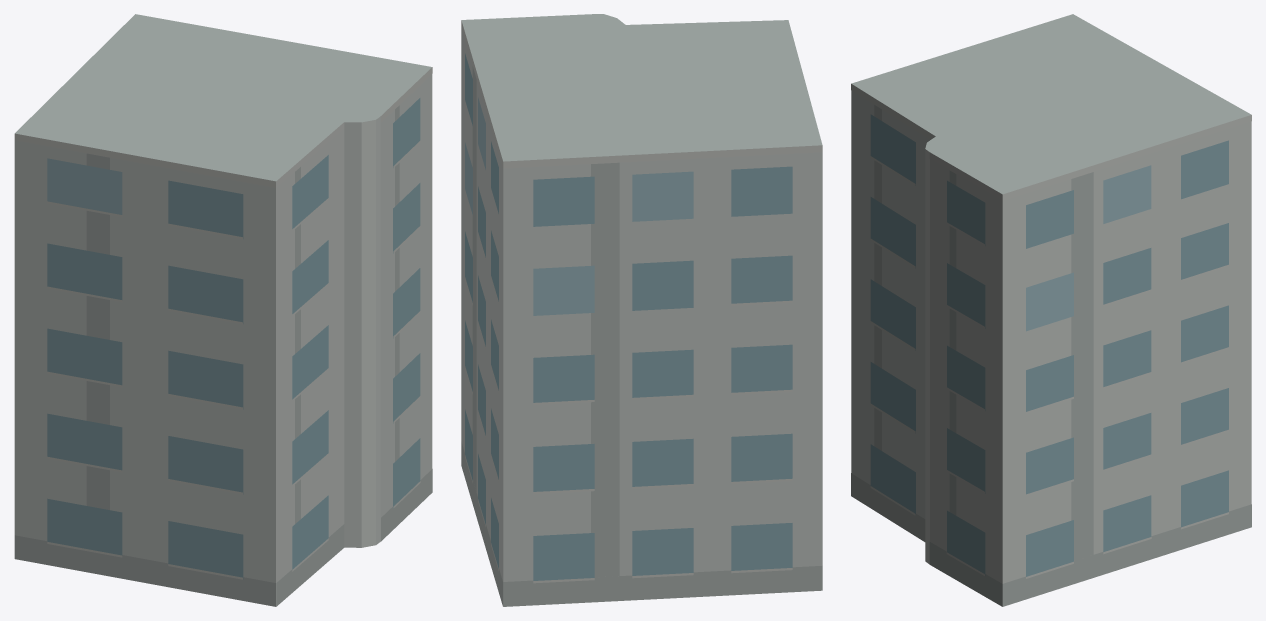
File: residential-70b1f701-2107-423a-ab26-b1509b469218.glb
The picture shows the model from 3 angles, left to right: view 1: azimuth 30°, elevation 25°; view 2: azimuth 150°, elevation 25°; view 3: azimuth 270°, elevation 25°; orthographic projection. The views are drawn at different scales.
Visible parts, largest first — view 1: residential-70b1f701-2107-423a-ab26-b1509b469218.tmp; view 2: residential-70b1f701-2107-423a-ab26-b1509b469218.tmp; view 3: residential-70b1f701-2107-423a-ab26-b1509b469218.tmp.
Part boxes in pixels (left/top/right/bottom): residential-70b1f701-2107-423a-ab26-b1509b469218.tmp: left=14, top=14, right=432, bottom=606; residential-70b1f701-2107-423a-ab26-b1509b469218.tmp: left=461, top=14, right=822, bottom=606; residential-70b1f701-2107-423a-ab26-b1509b469218.tmp: left=851, top=14, right=1251, bottom=606.
Bounding box in the file's own units: 14.31 × 15.25 × 13.43.
